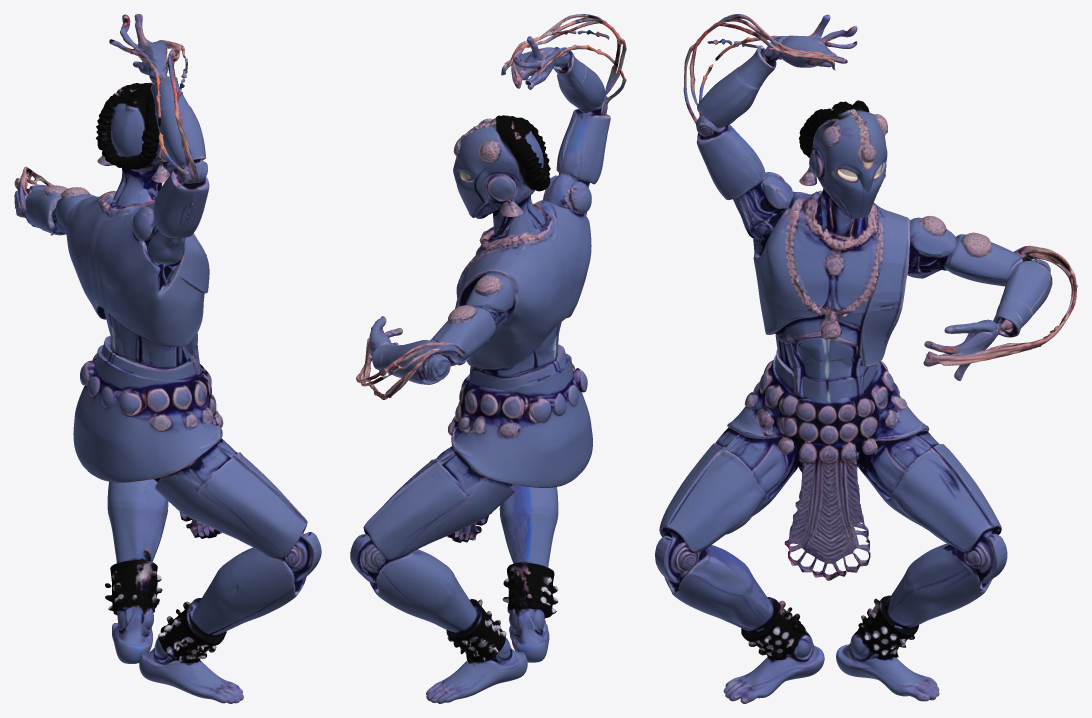
The picture shows the model from 3 angles, left to right: view 1: azimuth 30°, elevation 25°; view 2: azimuth 150°, elevation 25°; view 3: azimuth 270°, elevation 25°; orthographic projection. The views are drawn at different scales.
Visible parts, largest first — view 1: tripo_node_29b1479e-7f3d-4a31-b379-b7630371538c; view 2: tripo_node_29b1479e-7f3d-4a31-b379-b7630371538c; view 3: tripo_node_29b1479e-7f3d-4a31-b379-b7630371538c.
Part boxes in pixels (x1,y1,x2,y2): tripo_node_29b1479e-7f3d-4a31-b379-b7630371538c: (14,14,321,703); tripo_node_29b1479e-7f3d-4a31-b379-b7630371538c: (350,14,626,703); tripo_node_29b1479e-7f3d-4a31-b379-b7630371538c: (655,14,1077,703).
Bounding box in the file's own units: 0.2496 × 1 × 0.5801.
1 material, 1 textured.
